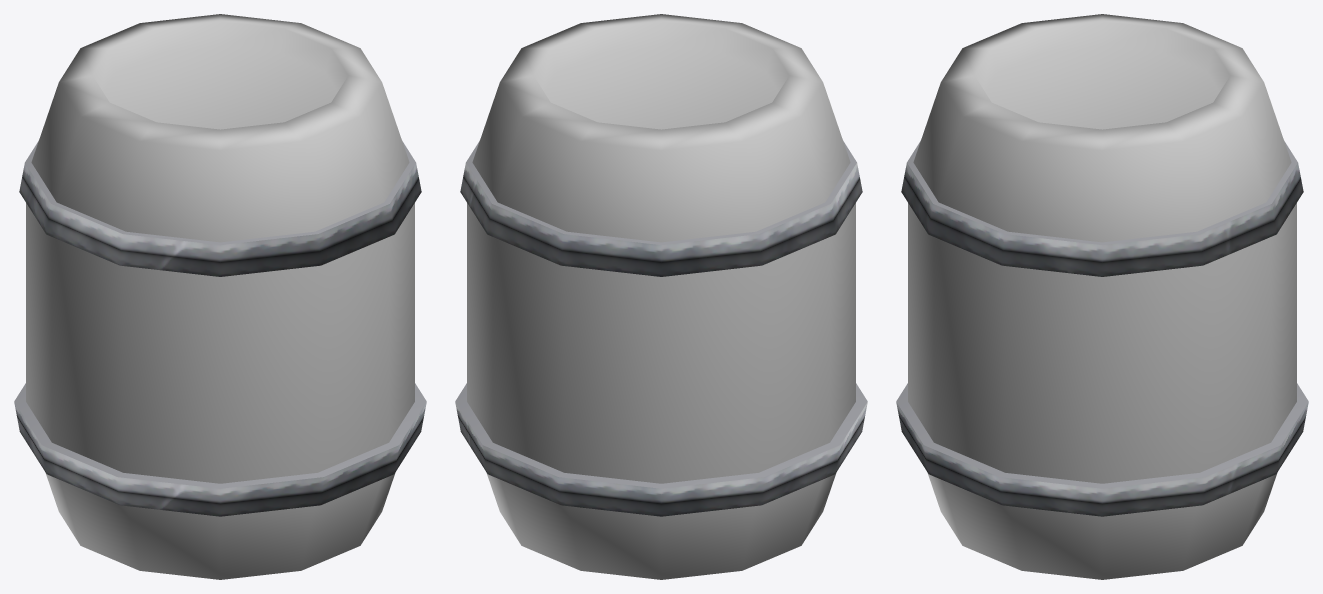
File: Barrel.fbx
3 renders of one model, left to right at view 1: azimuth 30°, elevation 25°; view 2: azimuth 150°, elevation 25°; view 3: azimuth 270°, elevation 25°, orthographic.
Parts seen in each view (by area): view 1: Mesh; view 2: Mesh; view 3: Mesh.
Part boxes in pixels (x1=…): Mesh: x1=14, y1=14, x2=426, y2=579; Mesh: x1=455, y1=14, x2=867, y2=579; Mesh: x1=896, y1=14, x2=1308, y2=579.
Size of the model in its own units: 86.49 by 102 by 86.49.
